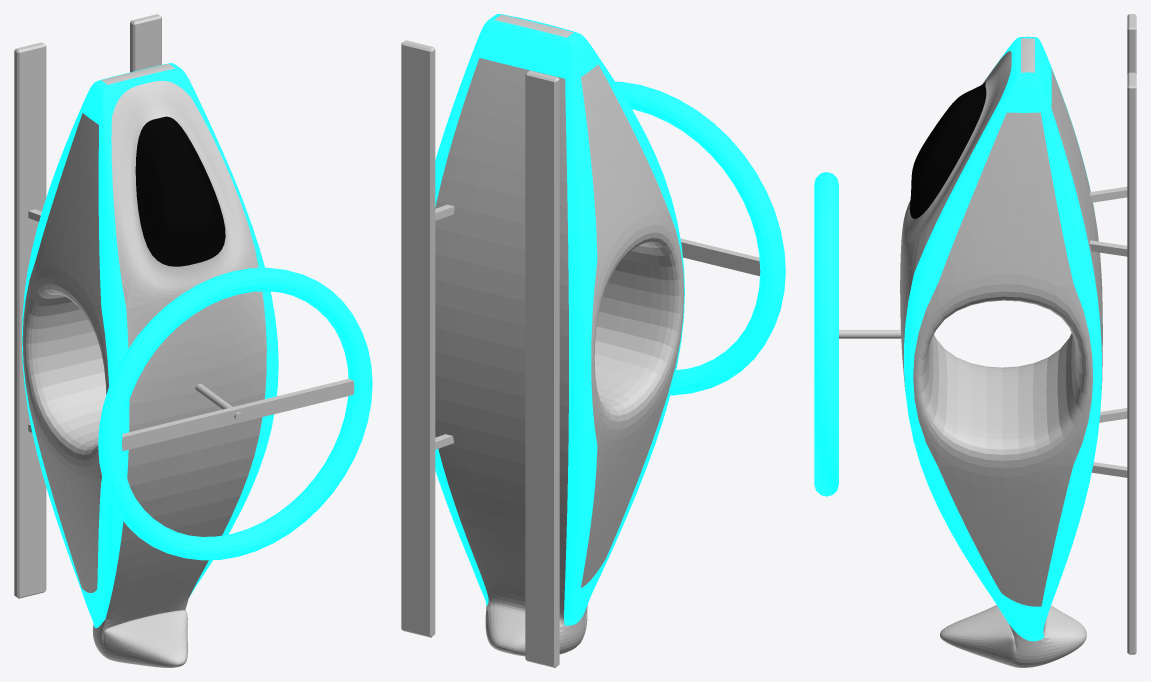
File: space-chopper.dae
3 views of the same model, side by side, from view 1: azimuth 30°, elevation 25°; view 2: azimuth 150°, elevation 25°; view 3: azimuth 270°, elevation 25° (orthographic). The views are drawn at different scales.
Parts seen in each view (by area): view 1: hull.001, rotor, skid-left, blade, skid-right; view 2: hull.001, skid-right, skid-left, rotor, blade; view 3: hull.001, rotor, skid-right, skid-left, blade-connect.
Part boxes in pixels (x1,y1,x2,y2): hull.001: [21, 63, 278, 667]; rotor: [98, 267, 372, 560]; skid-left: [14, 42, 46, 598]; blade: [122, 378, 354, 451]; skid-right: [130, 14, 161, 72]; hull.001: [435, 14, 684, 656]; skid-right: [401, 40, 454, 637]; skid-left: [525, 70, 559, 667]; rotor: [615, 81, 785, 395]; blade: [680, 238, 760, 276]; hull.001: [900, 36, 1102, 667]; rotor: [814, 172, 838, 496]; skid-right: [1090, 72, 1136, 654]; skid-left: [1090, 14, 1136, 422]; blade-connect: [839, 330, 901, 338].
Size of the model in its own units: 3.16 by 3.14 by 6.5.
